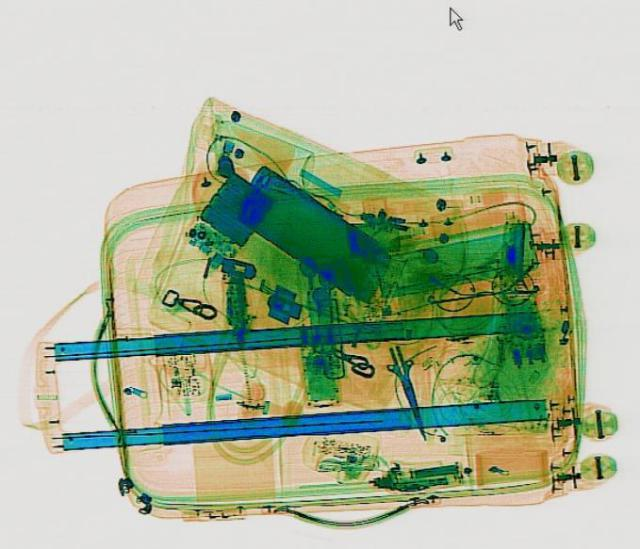Knife: (378, 342, 440, 443)
